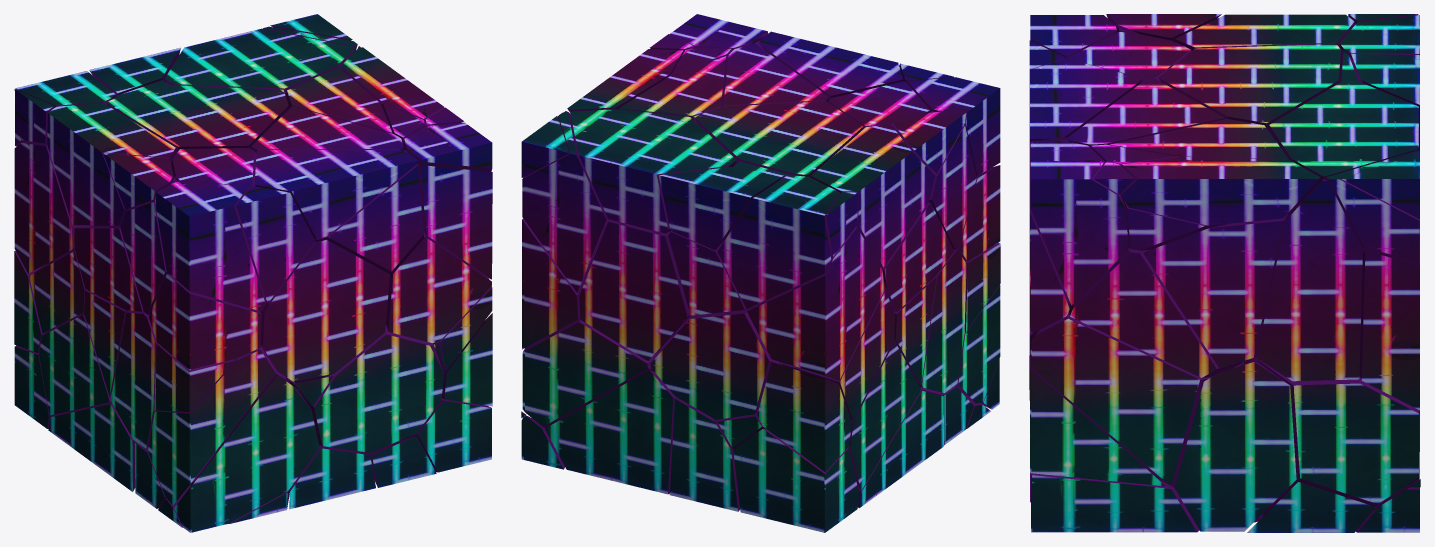
File: BrokenCrateWithMat.fbx
The picture shows the model from 3 angles, left to right: view 1: azimuth 30°, elevation 25°; view 2: azimuth 150°, elevation 25°; view 3: azimuth 270°, elevation 25°; orthographic projection. The views are drawn at different scales.
Visible parts, largest first — view 1: Cube_cell.150, Cube_cell.170, Cube_cell.183, Cube_cell.185, Cube_cell.121, Cube_cell.138, Cube_cell.182, Cube_cell.164, Cube_cell.084, Cube_cell.162, Cube_cell.131, Cube_cell.195 (+32 smaller); view 2: Cube_cell.164, Cube_cell.140, Cube_cell.193, Cube_cell.178, Cube_cell.165, Cube_cell.141, Cube_cell.121, Cube_cell.104, Cube_cell.182, Cube_cell.173, Cube_cell.144, Cube_cell.191 (+28 smaller); view 3: Cube_cell.153, Cube_cell.148, Cube_cell.184, Cube_cell.173, Cube_cell.136, Cube_cell.113, Cube_cell.167, Cube_cell.182, Cube_cell.164, Cube_cell.130, Cube_cell.107, Cube_cell.129 (+19 smaller).
Boxes of the visible parts, x1,y1,x2,y2 form: Cube_cell.150: (260,239,389,383); Cube_cell.170: (174,375,319,532); Cube_cell.183: (289,325,443,452); Cube_cell.185: (155,181,266,311); Cube_cell.121: (47,103,176,225); Cube_cell.138: (254,150,418,239); Cube_cell.182: (106,85,288,153); Cube_cell.164: (165,28,355,94); Cube_cell.084: (148,348,275,505); Cube_cell.162: (386,237,491,343); Cube_cell.131: (148,274,261,370); Cube_cell.195: (421,165,492,279); Cube_cell.164: (570,109,736,233); Cube_cell.140: (747,226,884,380); Cube_cell.193: (579,219,690,360); Cube_cell.178: (717,175,839,308); Cube_cell.165: (545,370,712,494); Cube_cell.141: (650,308,782,419); Cube_cell.121: (810,124,935,267); Cube_cell.104: (733,428,859,532); Cube_cell.182: (693,101,862,177); Cube_cell.173: (522,315,660,427); Cube_cell.144: (522,112,607,292); Cube_cell.191: (757,362,851,472); Cube_cell.153: (1256,179,1362,381); Cube_cell.148: (1174,361,1296,531); Cube_cell.184: (1030,312,1211,485); Cube_cell.173: (1244,357,1418,516); Cube_cell.136: (1143,213,1288,368); Cube_cell.113: (1030,140,1128,305); Cube_cell.167: (1121,156,1319,225); Cube_cell.182: (1158,44,1340,129); Cube_cell.164: (1268,81,1418,208); Cube_cell.130: (1069,248,1243,377); Cube_cell.107: (1031,473,1199,532); Cube_cell.129: (1359,250,1419,410).
Bounding box in the file's own units: 99.97 × 99.95 × 99.98.
